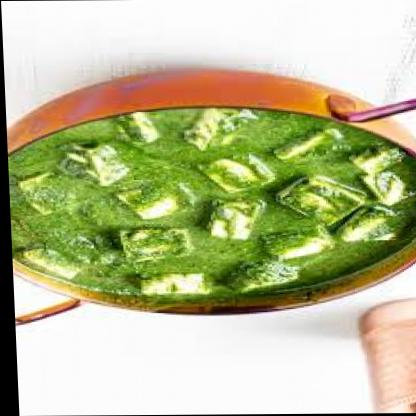palak_paneer: (4, 106, 416, 300)
